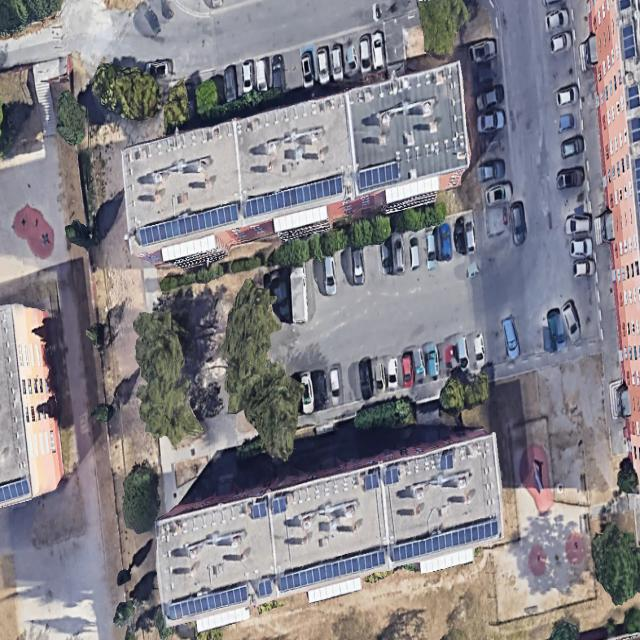immeuble: (103, 56, 491, 280), (137, 422, 521, 630)
